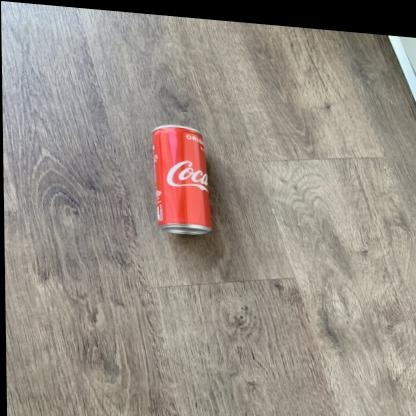trash: (152, 125, 211, 234)
